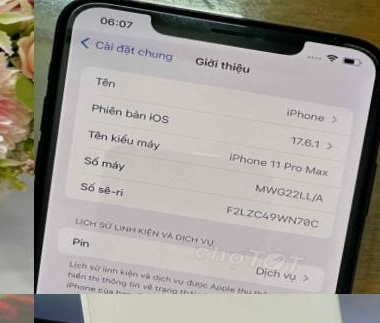scratch: (147, 0, 292, 52)
